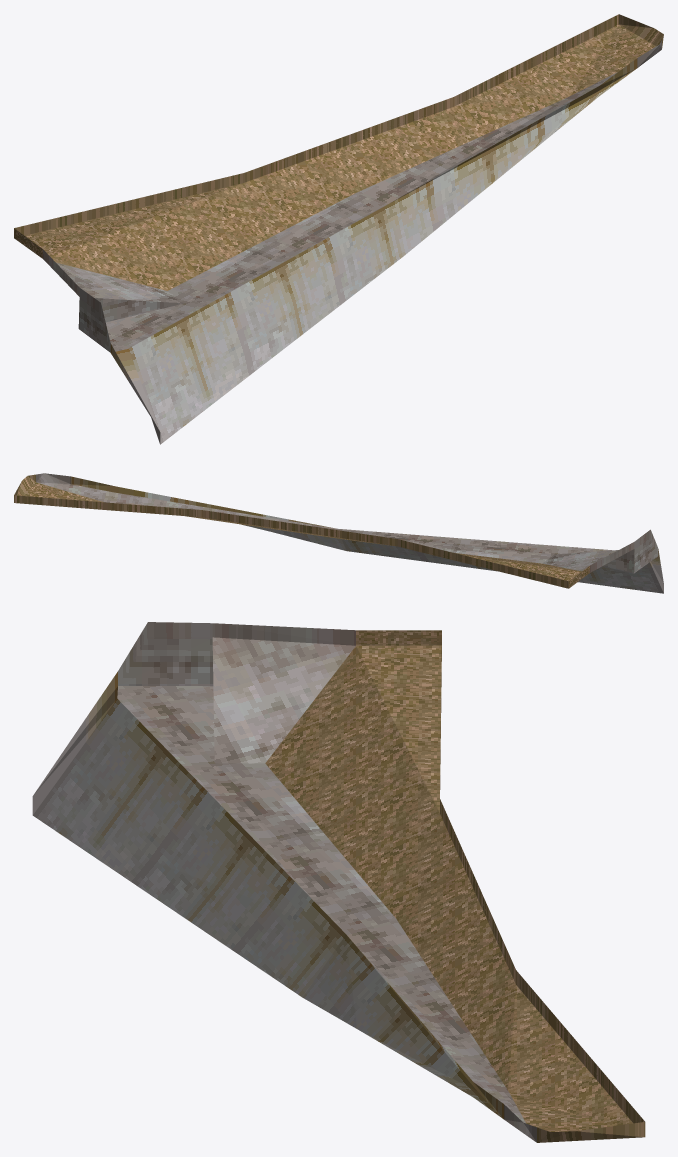
The model's file is lodlan_embank02.obj.
3 renders of one model, top to bottom at view 1: azimuth 30°, elevation 25°; view 2: azimuth 150°, elevation 25°; view 3: azimuth 270°, elevation 25°, orthographic. The views are drawn at different scales.
Visible parts, largest first — view 1: LODLan_embank02; view 2: LODLan_embank02; view 3: LODLan_embank02.
Part boxes in pixels (x1,y1,x2,y2): LODLan_embank02: (14,14,663,444); LODLan_embank02: (14,473,663,593); LODLan_embank02: (32,622,645,1142).
Bounding box in the file's own units: 60.83 × 9.93 × 30.87.
Materials: 3 (3 with a texture image).
